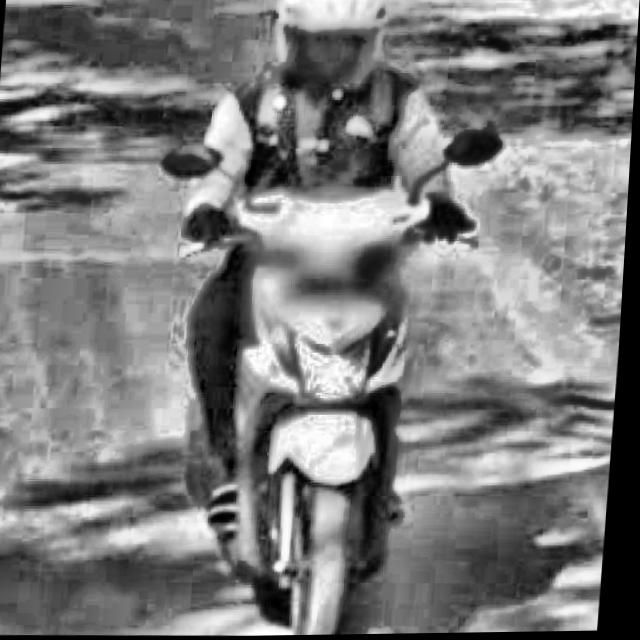motorcycle: (129, 109, 514, 638)
